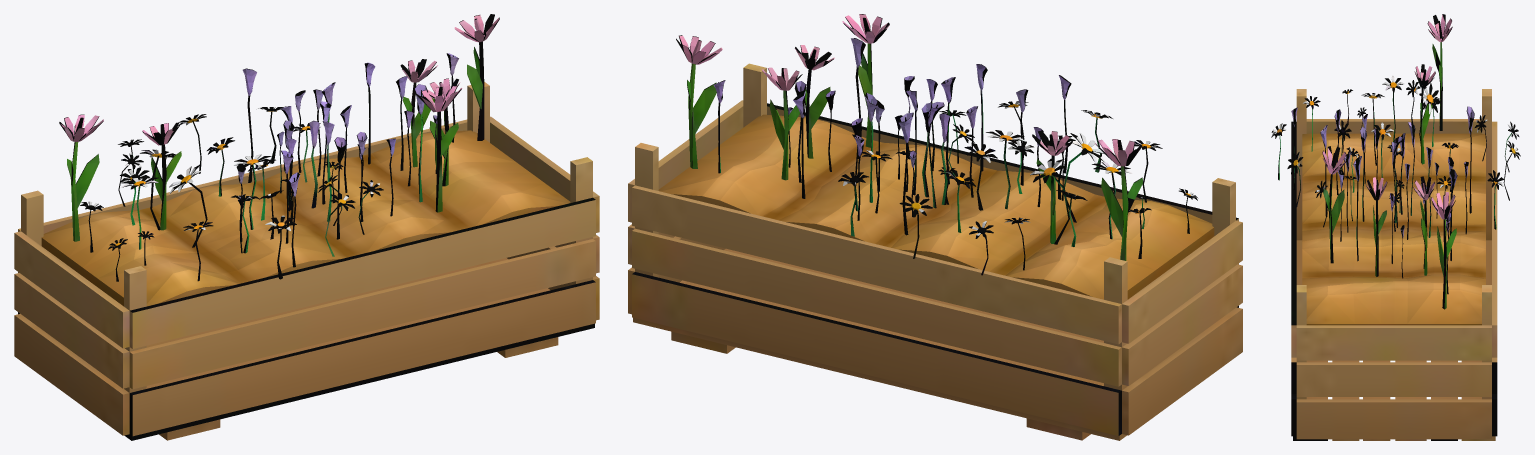
Rendered from flowerbed_crate.glb.
The picture shows the model from 3 angles, left to right: view 1: azimuth 30°, elevation 25°; view 2: azimuth 150°, elevation 25°; view 3: azimuth 270°, elevation 25°; orthographic projection. The views are drawn at different scales.
Parts seen in each view (by area): view 1: flowerbed_crate; view 2: flowerbed_crate; view 3: flowerbed_crate.
Part boxes in pixels (bbox=[...]): flowerbed_crate: bbox=[14, 14, 599, 440]; flowerbed_crate: bbox=[628, 14, 1242, 440]; flowerbed_crate: bbox=[1271, 14, 1520, 440].
Size of the model in its own units: 1.21 by 0.6423 by 0.61.
1 material, 1 textured.
